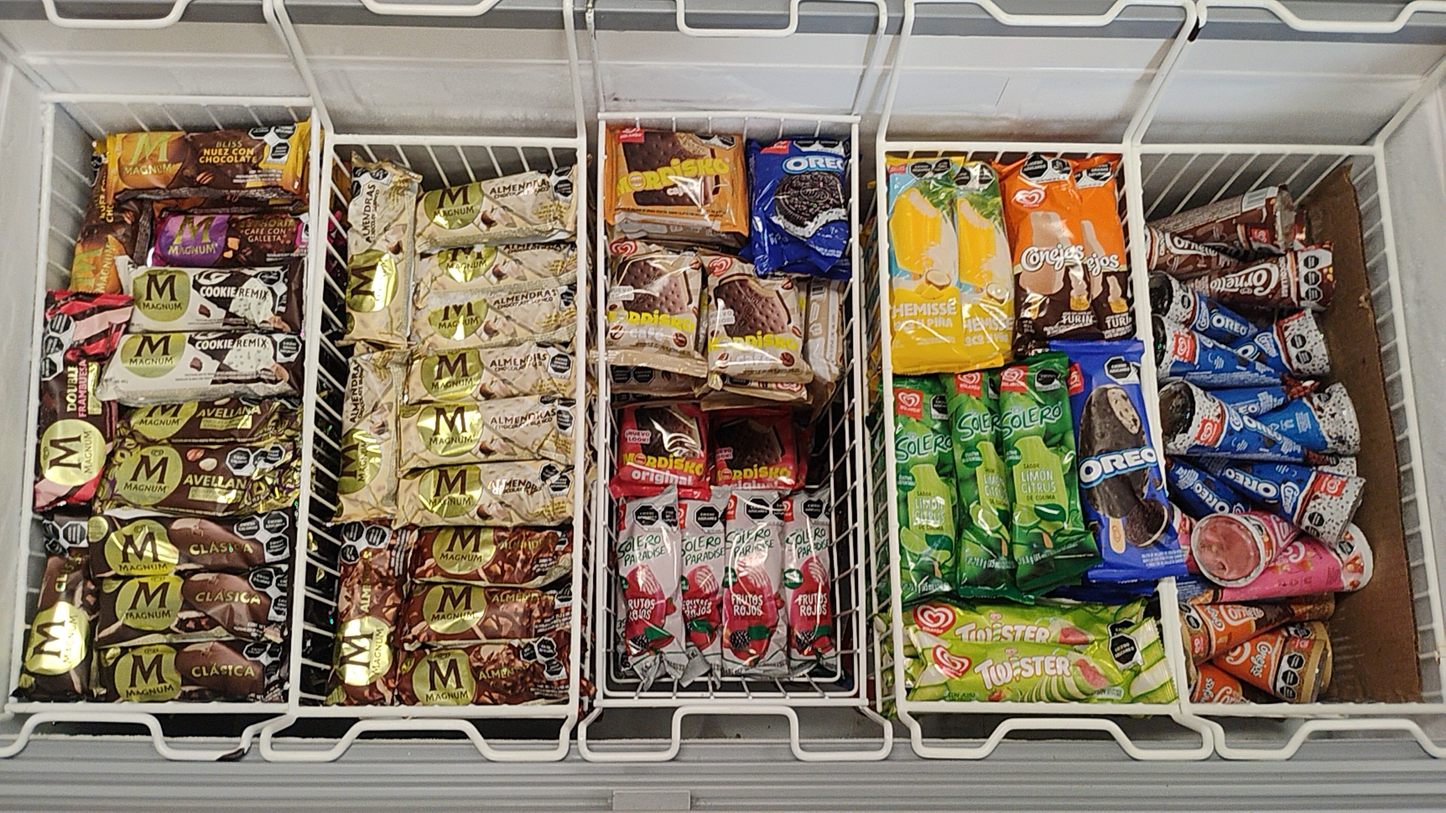Magnum clasica: (5, 519, 96, 693), (93, 576, 297, 644), (93, 511, 291, 571), (99, 641, 289, 696)
Oreo Mordizco: (758, 140, 852, 261)
